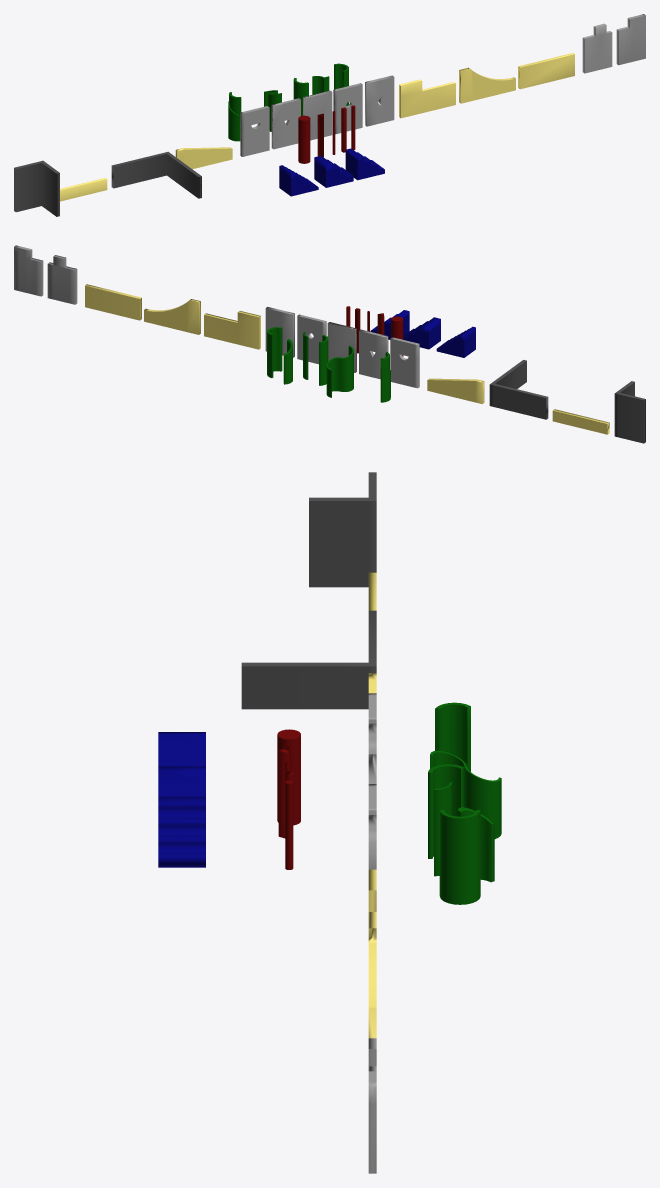
Rendered from modules_final.fbx.
3 views of the same model, one above another, from view 1: azimuth 30°, elevation 25°; view 2: azimuth 150°, elevation 25°; view 3: azimuth 270°, elevation 25° (orthographic). The views are drawn at different scales.
Visible parts, largest first — view 1: module_coin02_low, module_coin01_low, module_muret04_low, module_muret01_low, module_mur02_low, module_mur05_low, module_mur03_low, module_muret05_low, module_mur07_low, module_mur06_low, module_mur04_low, module_mur01_low (+10 smaller); view 2: module_coin02_low, module_muret04_low, module_coin01_low, module_muret01_low, module_mur05_low, module_muret05_low, module_mur07_low, module_mur06_low, module_mur03_low, module_muret03_low, module_courbe05_low, module_mur04_low (+10 smaller); view 3: module_coin02_low, module_coin01_low, module_courbe01_low, module_escalier03_low, module_courbe05_low, module_courbe06_low, module_escalier02_low, module_courbe04_low, module_escalier01_low, module_colone02_low, module_courbe02_low.
Part boxes in pixels (box(x1,y1,x2,y2)): module_coin02_low: box(111, 151, 201, 198); module_coin01_low: box(14, 160, 59, 216); module_muret04_low: box(399, 79, 455, 118); module_muret01_low: box(518, 53, 574, 89); module_mur02_low: box(365, 75, 394, 126); module_mur05_low: box(240, 106, 269, 156); module_mur03_low: box(271, 98, 300, 149); module_muret05_low: box(459, 67, 515, 103); module_mur07_low: box(616, 14, 645, 65); module_mur06_low: box(582, 23, 612, 73); module_mur04_low: box(333, 83, 362, 134); module_mur01_low: box(303, 90, 332, 140); module_coin02_low: box(489, 360, 548, 419); module_muret04_low: box(204, 311, 260, 349); module_coin01_low: box(614, 381, 645, 443); module_muret01_low: box(85, 284, 141, 320); module_mur05_low: box(390, 337, 419, 388); module_muret05_low: box(144, 299, 200, 334); module_mur07_low: box(14, 245, 43, 296); module_mur06_low: box(47, 255, 77, 304); module_mur03_low: box(359, 329, 388, 379); module_muret03_low: box(427, 378, 484, 404); module_courbe05_low: box(326, 345, 353, 397); module_mur04_low: box(297, 314, 326, 364); module_coin02_low: box(241, 610, 376, 709); module_coin01_low: box(309, 472, 376, 587); module_courbe01_low: box(439, 810, 480, 904); module_escalier03_low: box(158, 796, 205, 867); module_courbe05_low: box(430, 750, 501, 838); module_courbe06_low: box(435, 702, 470, 771); module_escalier02_low: box(158, 732, 205, 766); module_courbe04_low: box(428, 764, 464, 858); module_escalier01_low: box(158, 766, 205, 796); module_colone02_low: box(277, 729, 300, 825); module_courbe02_low: box(457, 807, 494, 882).
Size of the model in its own units: 91.65 by 6 by 21.64.
